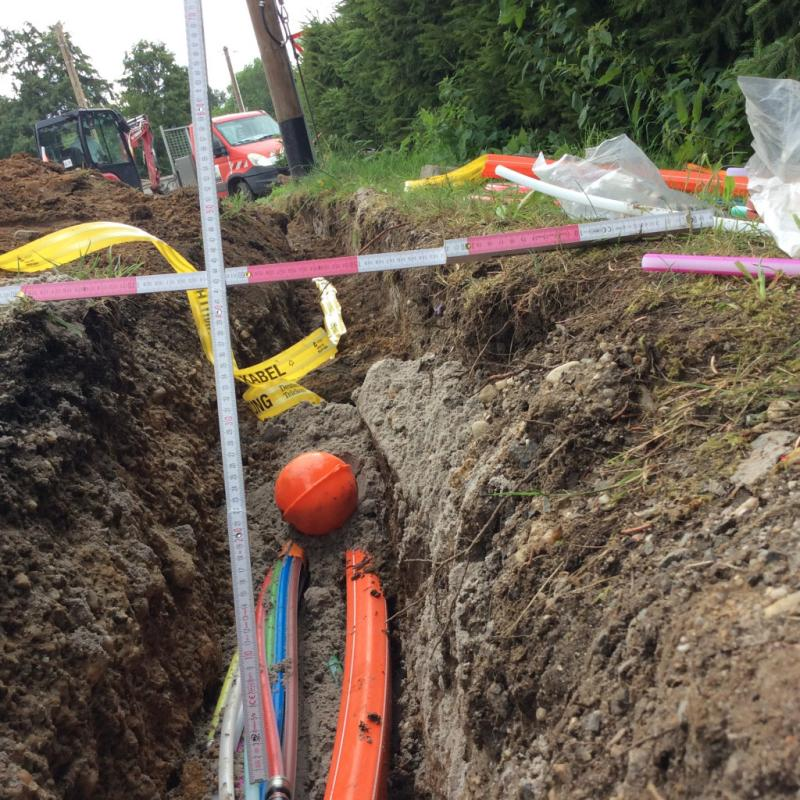Kugelmarker: (273, 453, 359, 533)
Orang-Speednetrohrchen: (318, 555, 389, 796)
